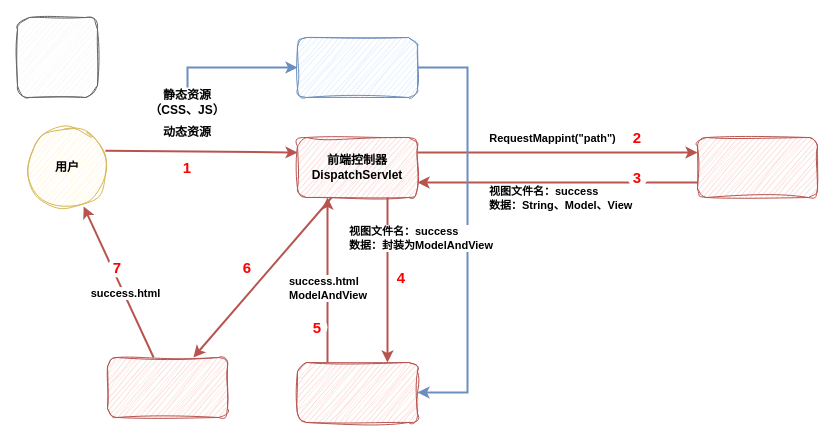
Image size: 835x440. Some labels were removed from this diagram. The shapes that lost their labels are listed below. From the top down, each one's centre as x and y in pixels, then its label:
At point (57, 57): "Tomcat启动 加载web.xml 创建ioc容器".
At point (357, 67): "Tomcat默认 前端控制器 DefaultServlet".
At point (757, 167): "处理器 Controler".
At point (167, 387): "视图渲染 数据填充".
At point (357, 392): "视图解析器 （Thymleaf等）".
